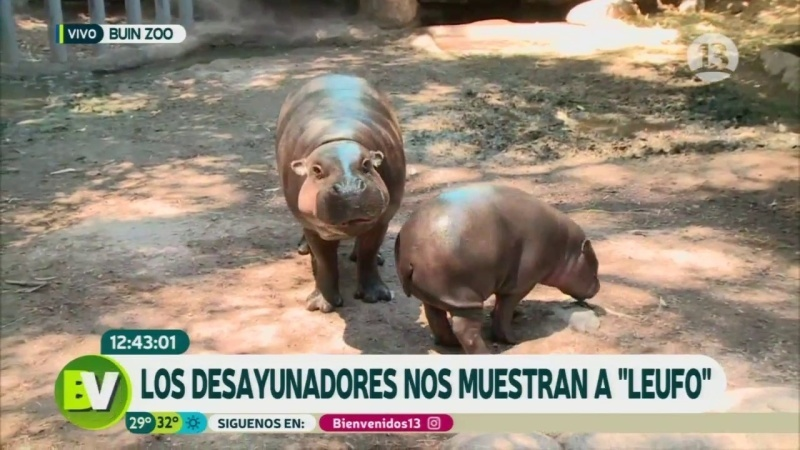hipopotamo: (391, 166, 643, 360), (254, 60, 406, 325)
